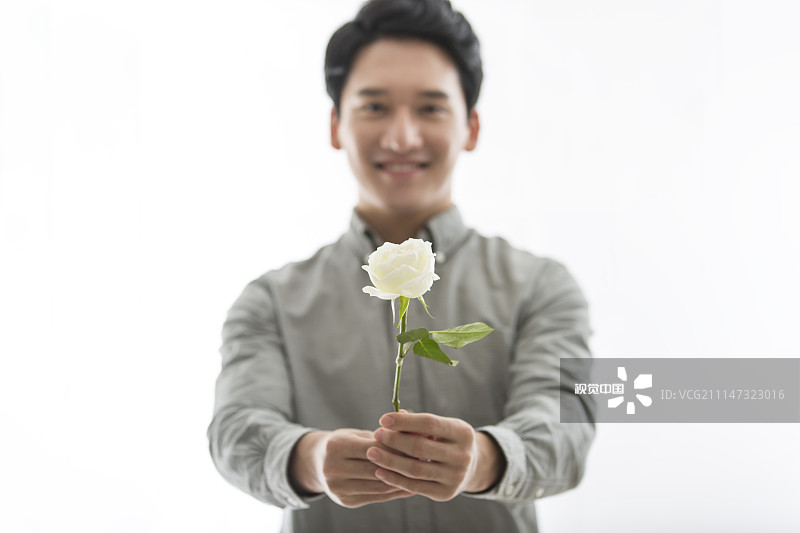no-phone: (364, 357, 496, 513)
